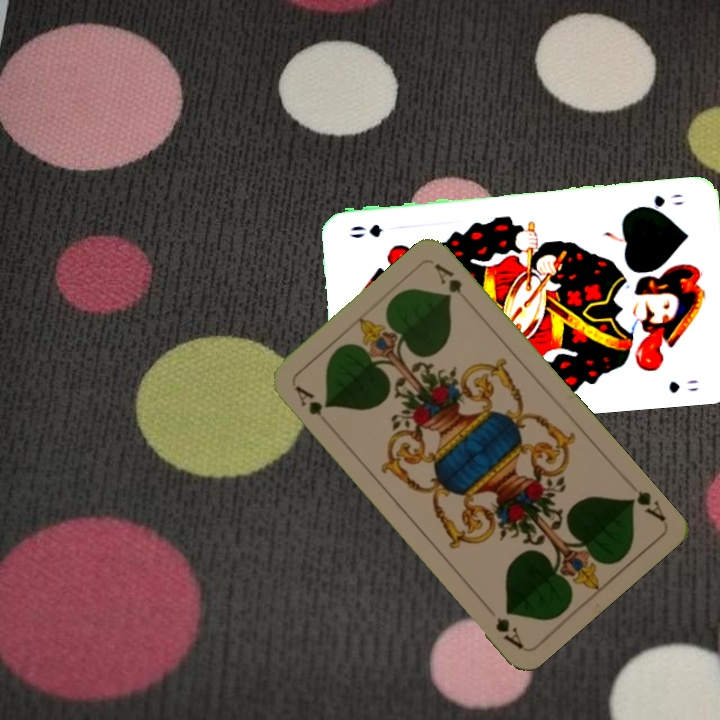GA: (291, 381, 334, 430), (622, 486, 668, 524)
GO: (634, 189, 686, 214)
